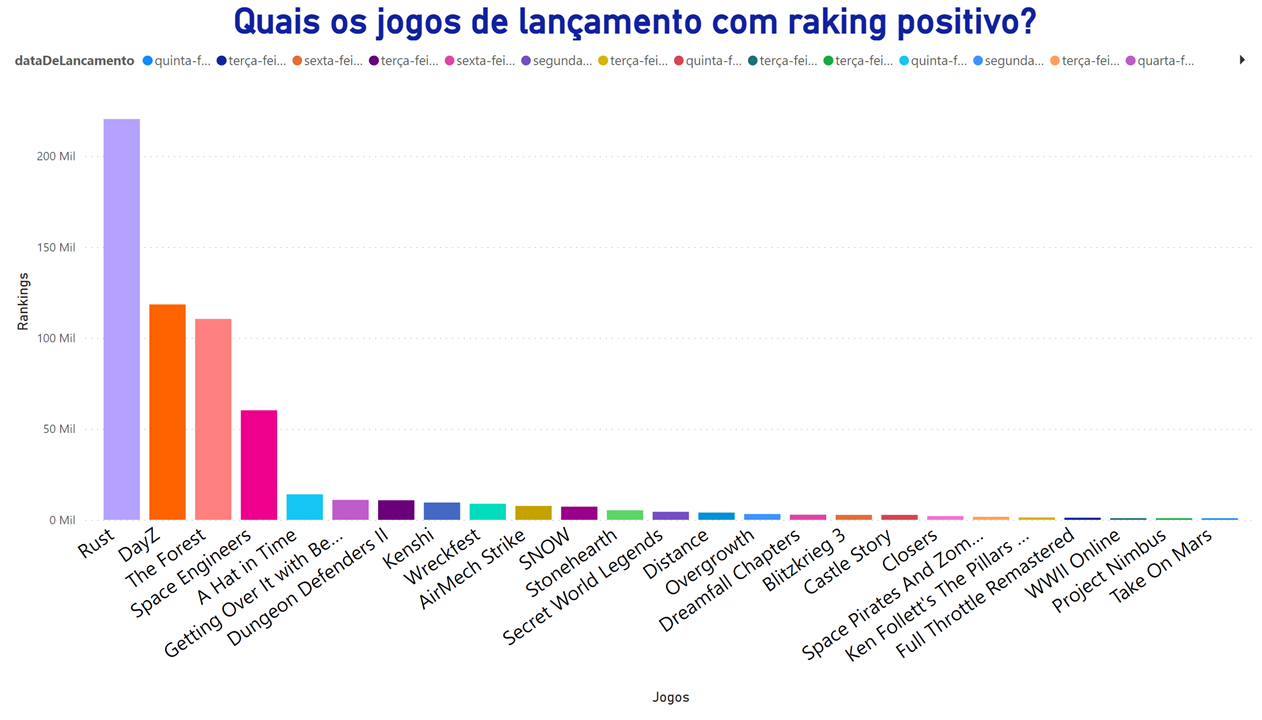

The page's visual inventory and layout, read from the dashboard file:
{"tool":"powerbi","page":{"name":"6- jogos de lançamento com raking positivo","canvas":[1280,720],"ordinal":4},"visuals":[{"type":"columnChart","title":"Quais os jogos de lançamento com raking positivo? ","fields":{"Category":["Jogos de lançamento com raking positivo.Jogos","Jogos de lançamento com raking positivo.dataDeLancamento.Variation.Hierarquia de datas.Ano"],"Series":["Jogos de lançamento com raking positivo.dataDeLancamento"],"Y":["Sum(Jogos de lançamento com raking positivo.Rankings)"]},"box":[10.3,0,1269.7,719.4],"z":0}]}

Visuals, with their boxes in screenshot pixels (x1, y1, x2, y2), scaled from the page's 1280x720 canvas onto the 1262x720 screenshot:
"Quais os jogos de lançamento com raking positivo? " columnChart: (left=10, top=0, right=1261, bottom=719)
